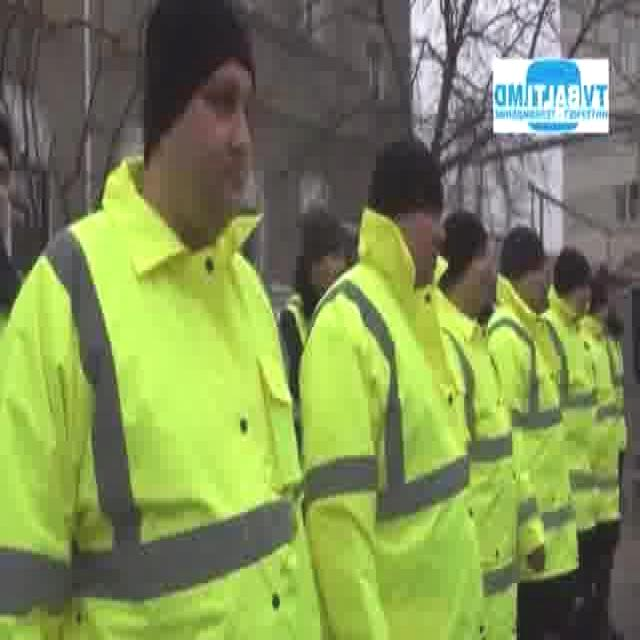vest: (0, 151, 323, 640), (296, 201, 487, 640), (434, 277, 521, 640), (484, 272, 584, 587), (538, 279, 601, 533), (576, 315, 626, 529)
